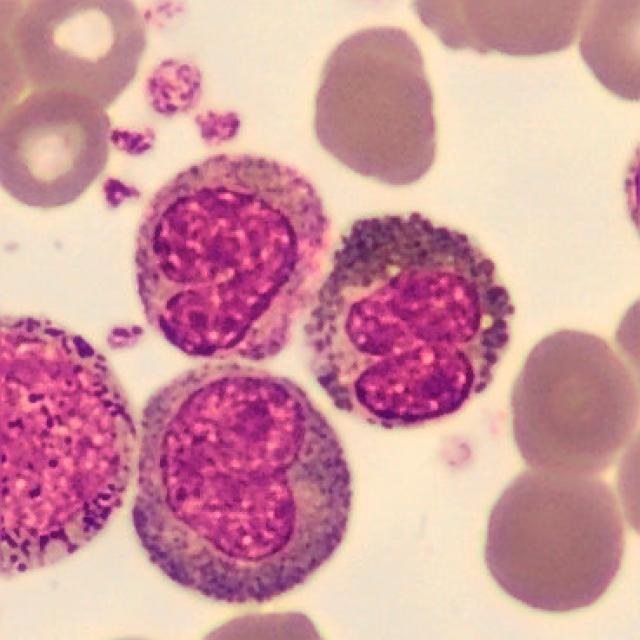Bastonete: (136, 157, 320, 362)
Eosinofilo: (308, 214, 515, 431)
Metamielocito: (130, 372, 353, 605)
